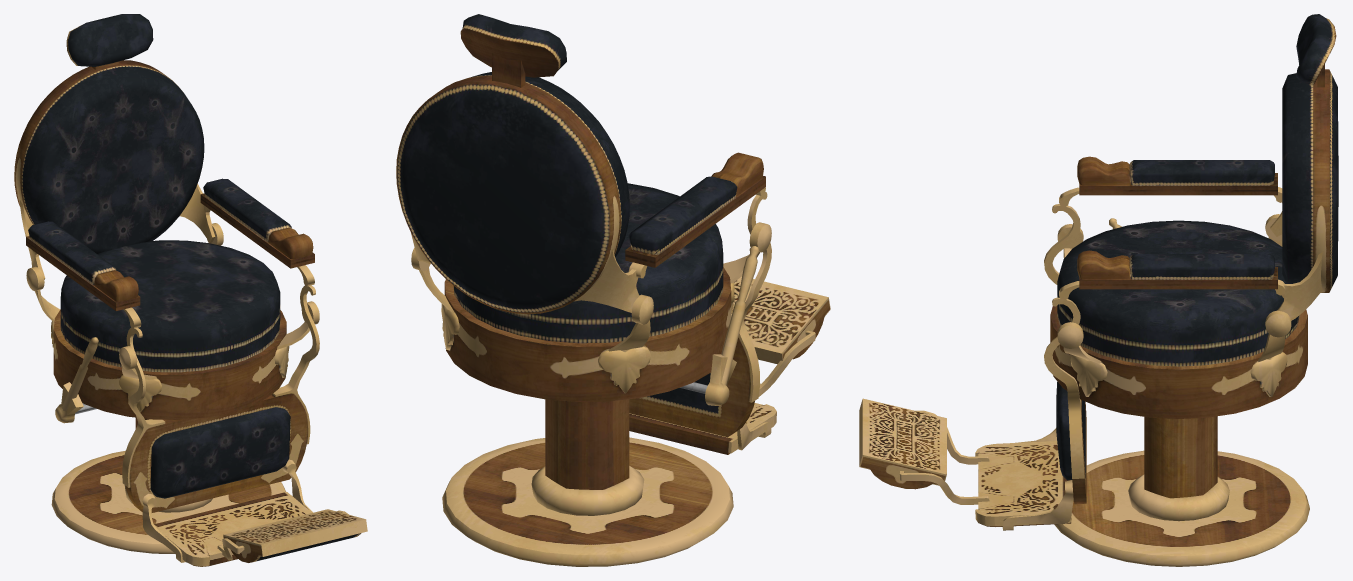
The model's file is barber_shop_chair_01_4k-v2.glb.
3 views of the same model, side by side, from view 1: azimuth 30°, elevation 25°; view 2: azimuth 150°, elevation 25°; view 3: azimuth 270°, elevation 25° (orthographic). The views are drawn at different scales.
Visible parts, largest first — view 1: BarberShopChair_01; view 2: BarberShopChair_01; view 3: BarberShopChair_01.
Boxes of the visible parts, left/top/right/bottom form: BarberShopChair_01: left=14, top=14, right=367, bottom=566; BarberShopChair_01: left=396, top=14, right=830, bottom=566; BarberShopChair_01: left=859, top=14, right=1338, bottom=566.
Size of the model in its own units: 0.7565 by 1.49 by 1.33.
Materials: 1 (1 with a texture image).
